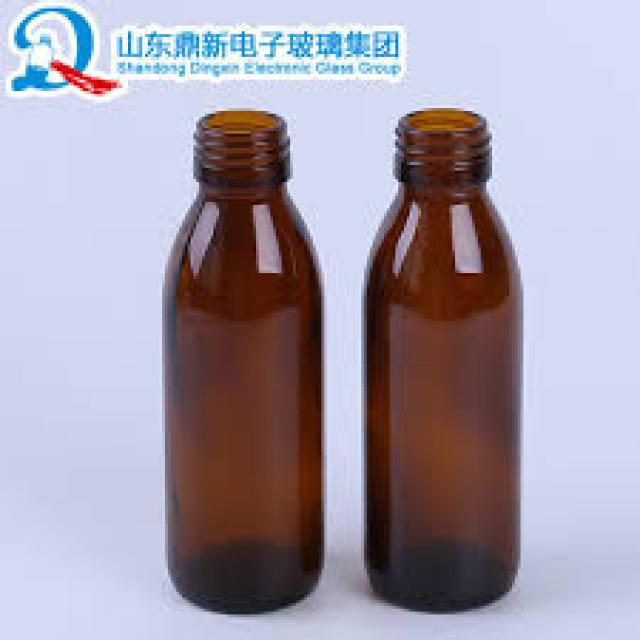Anorganik: (361, 105, 521, 612), (159, 108, 319, 612)
